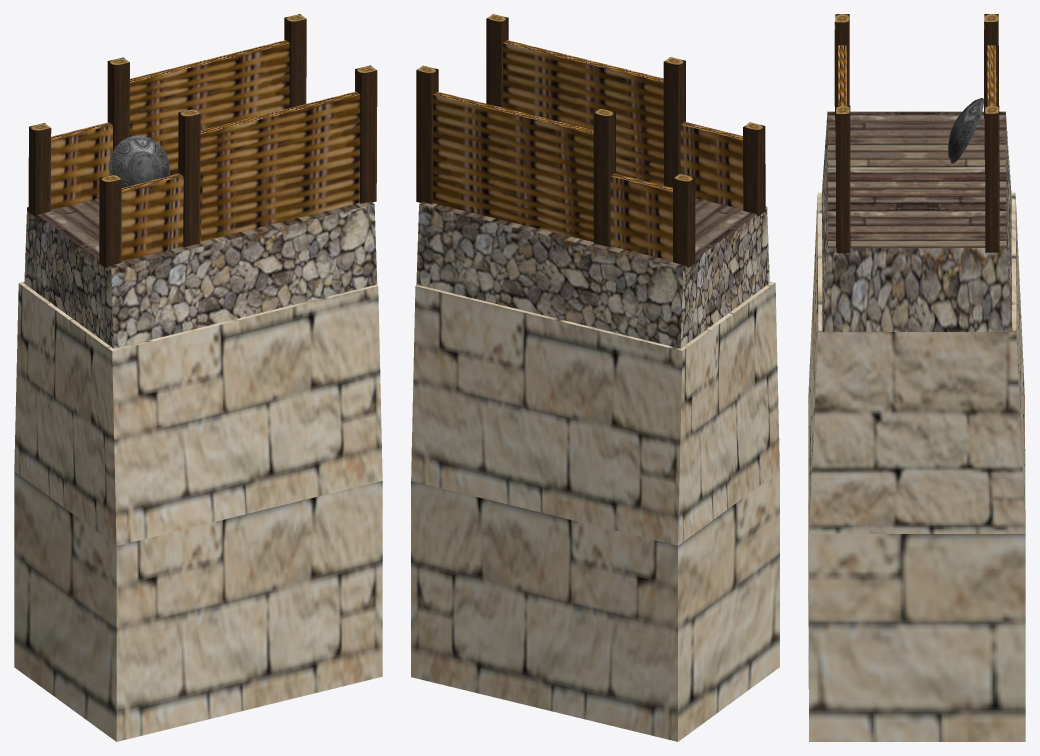
The model's file is wall_short.dae.
3 views of the same model, side by side, from view 1: azimuth 30°, elevation 25°; view 2: azimuth 150°, elevation 25°; view 3: azimuth 270°, elevation 25° (orthographic). The views are drawn at different scales.
Visible parts, largest first — view 1: wall_short; view 2: wall_short; view 3: wall_short.
Part boxes in pixels (x1,y1,x2,y2): wall_short: (14,14,382,741); wall_short: (411,14,779,741); wall_short: (808,14,1025,741).
Size of the model in its own units: 9.61 by 6.22 by 19.97.
